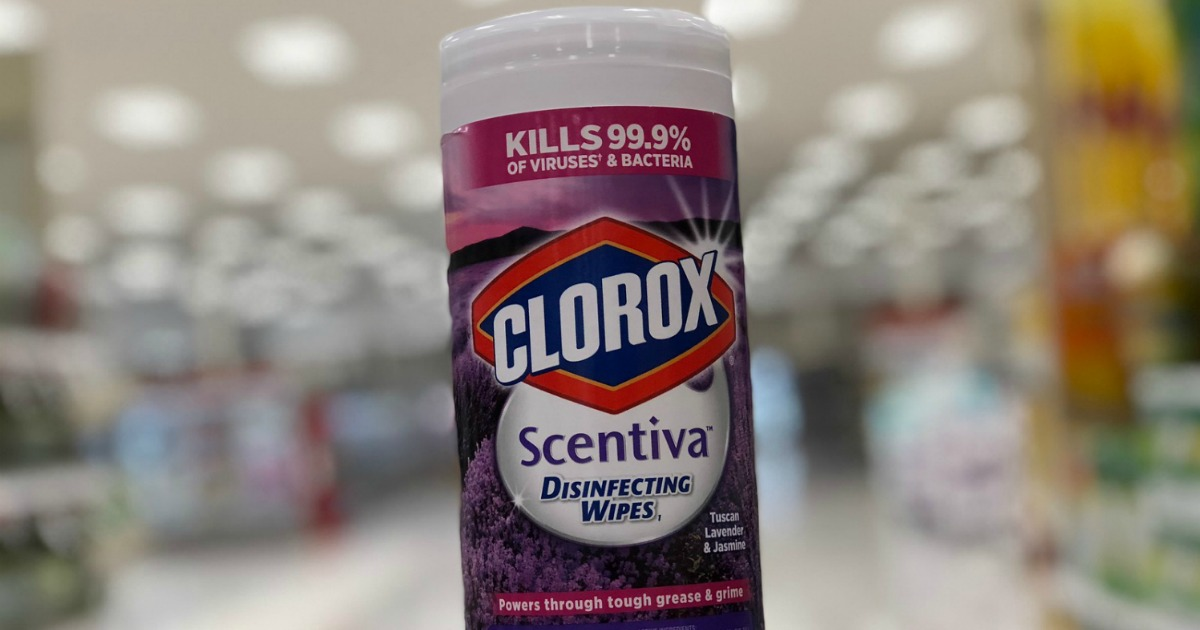Wipes: (436, 1, 772, 630)
